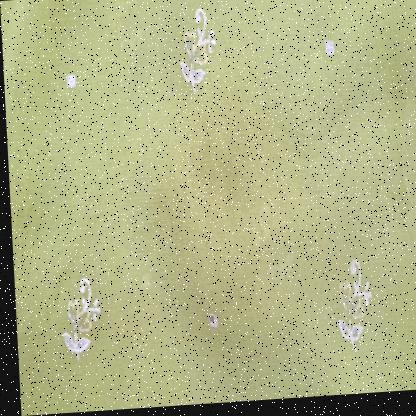spot: (148, 174, 216, 331), (190, 138, 255, 209)
